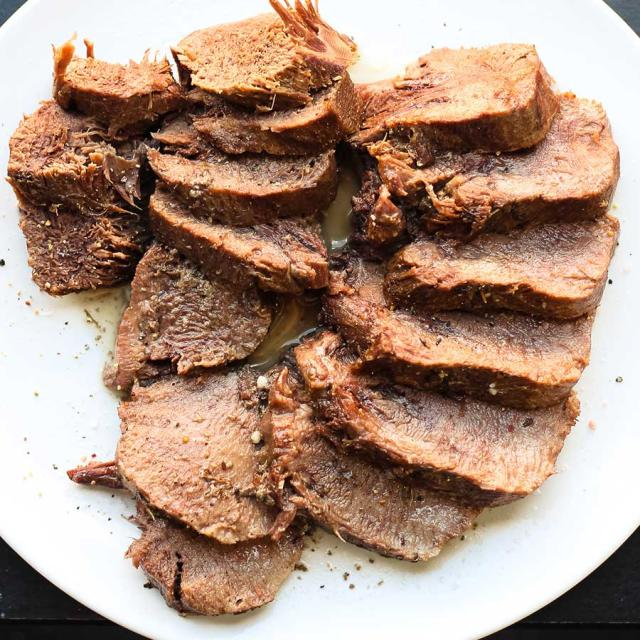carne de res: (7, 11, 627, 612)
